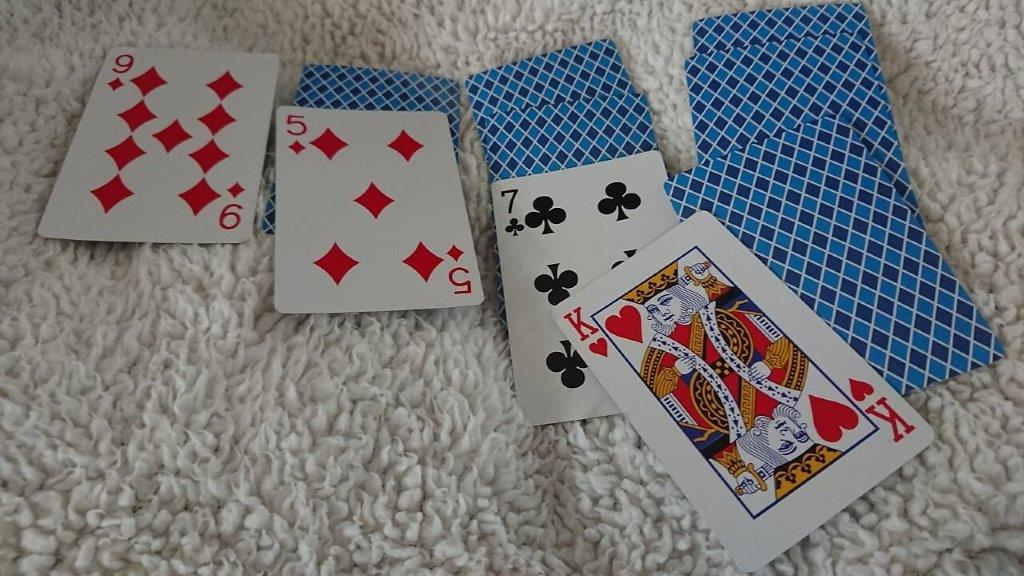5D: (280, 109, 319, 162)
7C: (496, 181, 535, 244)
9D: (104, 50, 141, 98)
BACK: (663, 112, 912, 209), (685, 32, 892, 112), (486, 91, 665, 148), (466, 38, 639, 91), (293, 64, 461, 109), (691, 3, 873, 32)
KH: (560, 301, 613, 362)
